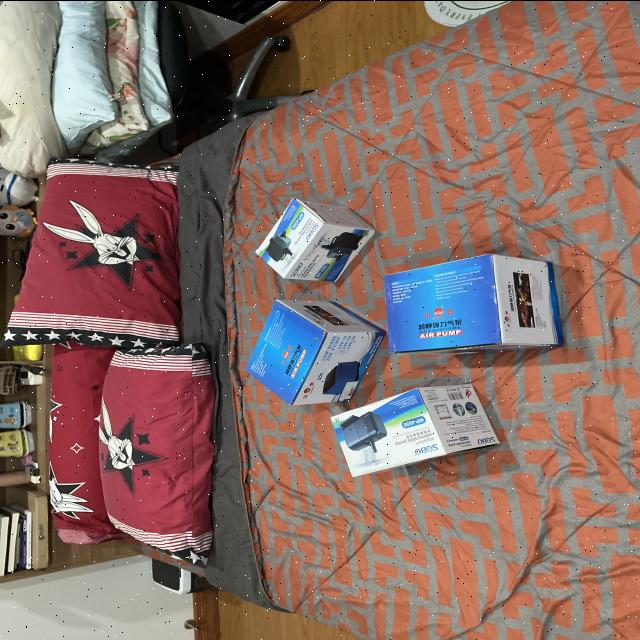SOBO_WP_4200: (324, 378, 512, 476), (248, 188, 382, 284)
YAMANO_LPP_20: (381, 233, 568, 364), (234, 286, 390, 408)
